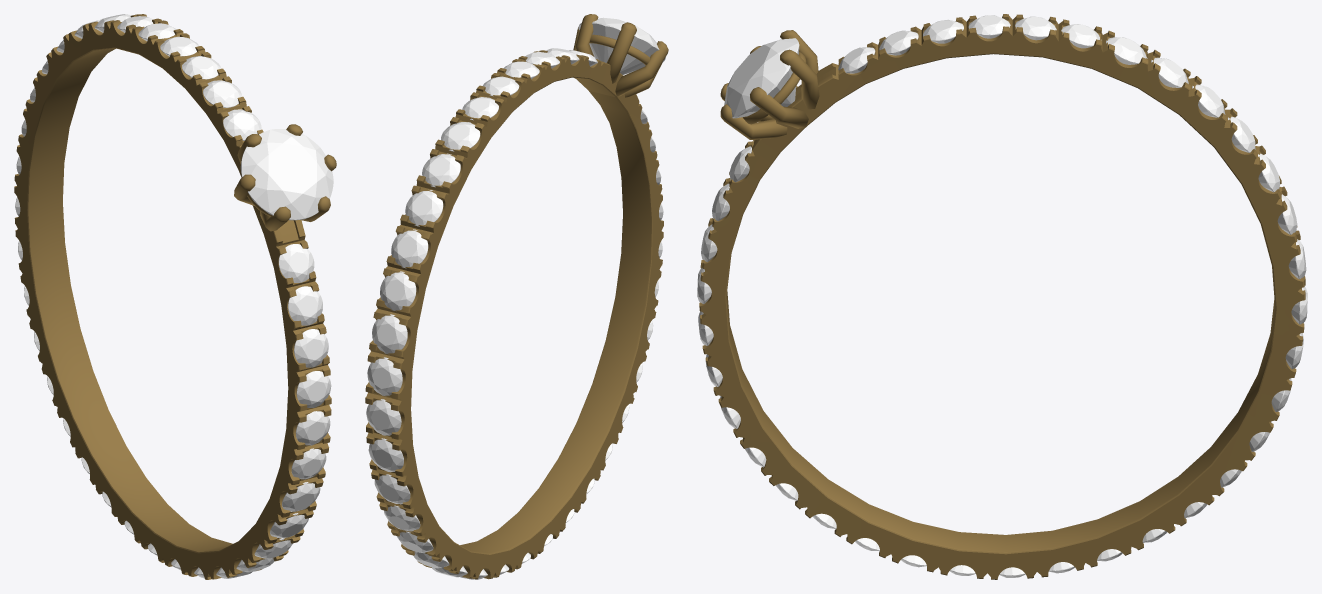
File: MoissaniteRing.glb
3 views of the same model, side by side, from view 1: azimuth 30°, elevation 25°; view 2: azimuth 150°, elevation 25°; view 3: azimuth 270°, elevation 25° (orthographic). The views are drawn at different scales.
Visible parts, largest first — view 1: MoissaniteDiamondRing; view 2: MoissaniteDiamondRing; view 3: MoissaniteDiamondRing.
Part boxes in pixels (x1,y1,x2,y2): MoissaniteDiamondRing: (14, 14, 336, 579); MoissaniteDiamondRing: (365, 14, 668, 579); MoissaniteDiamondRing: (697, 14, 1307, 579).
Size of the model in its own units: 3.34 by 17.47 by 17.46.
2 materials, 1 textured.
